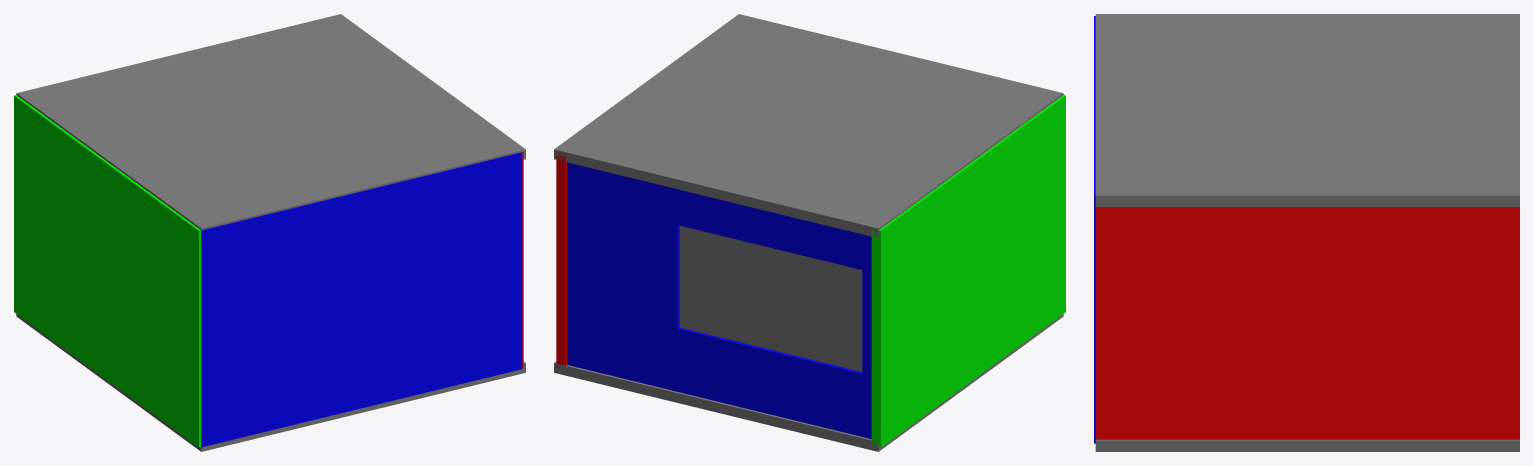
The model's file is office.glb.
The picture shows the model from 3 angles, left to right: view 1: azimuth 30°, elevation 25°; view 2: azimuth 150°, elevation 25°; view 3: azimuth 270°, elevation 25°; orthographic projection. The views are drawn at different scales.
Visible parts, largest first — view 1: Cube.004, Cube.001, Cube.002, Cube; view 2: Cube.001, Cube.005, Cube.002, Cube.006, Cube, Cube.003; view 3: Cube.003, Cube.001, Cube, Cube.004.
Part boxes in pixels (x1,y1,x2,y2): Cube.004: [201, 152, 522, 447]; Cube.001: [16, 14, 525, 230]; Cube.002: [14, 95, 201, 447]; Cube: [16, 314, 525, 451]; Cube.001: [554, 14, 1063, 238]; Cube.005: [567, 162, 871, 438]; Cube.002: [871, 95, 1065, 447]; Cube.006: [679, 225, 862, 371]; Cube: [554, 314, 1063, 451]; Cube.003: [556, 152, 566, 368]; Cube.003: [1095, 207, 1519, 439]; Cube.001: [1095, 14, 1519, 206]; Cube: [1095, 439, 1519, 451]; Cube.004: [1094, 16, 1095, 443].
Size of the model in its own units: 11.89 by 7.76 by 11.69.
